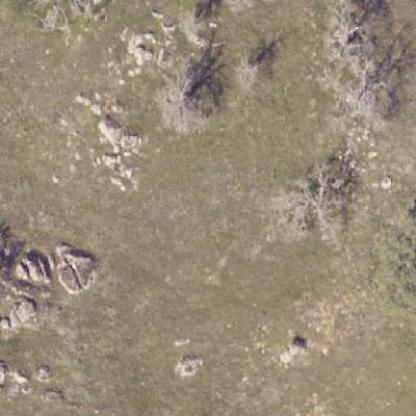tree-top: (276, 164, 356, 247), (330, 56, 406, 124), (150, 68, 224, 133), (228, 55, 268, 93)
